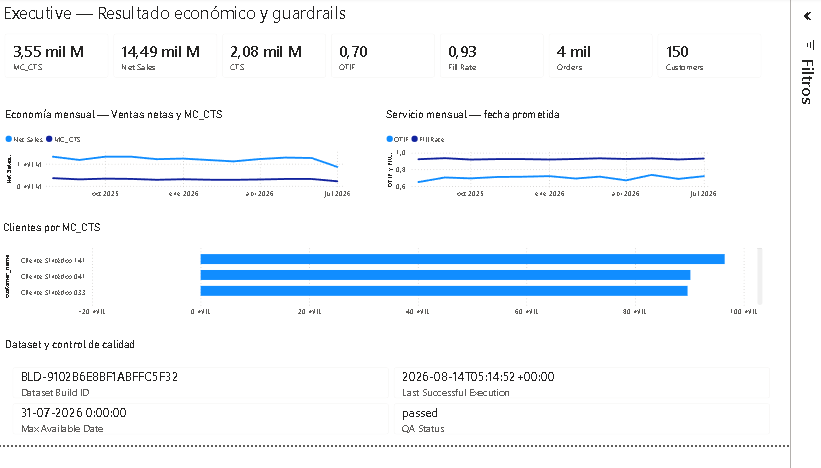

Layout of this report page (visuals, bound fields, positions):
{"tool":"powerbi","page":{"name":"Executive","canvas":[1280,720],"ordinal":0},"visuals":[{"type":"textbox","box":[9.5,0,660.7,57.1],"z":0},{"type":"cardVisual","fields":{"Data":["_Measures.MC_CTS","_Measures.Net Sales","_Measures.CTS","_Measures.OTIF","_Measures.Fill Rate","_Measures.Orders","_Measures.Customers"]},"box":[0,41.1,1251.9,105.8],"z":1000},{"type":"lineChart","title":"Economía mensual — Ventas netas y MC_CTS","fields":{"Category":["dim_date.month_start"],"Y":["_Measures.Net Sales","_Measures.MC_CTS"]},"box":[12.9,178.5,564.2,154.3],"z":2000},{"type":"lineChart","title":"Servicio mensual — fecha prometida","fields":{"Category":["dim_date.month_start"],"Y":["_Measures.OTIF","_Measures.Fill Rate"]},"box":[625.5,178.5,541,154.6],"z":3000},{"type":"clusteredBarChart","title":"Clientes por MC_CTS","fields":{"Category":["dim_customer.customer_name"],"Y":["_Measures.MC_CTS"]},"box":[9.6,360.2,1231,163],"z":4000},{"type":"cardVisual","title":"Dataset y control de calidad","fields":{"Data":["_Measures.Dataset Build ID","_Measures.Last Successful Execution","_Measures.Max Available Date","_Measures.QA Status"]},"box":[12.9,548.3,1252.7,172.1],"z":5000}]}

Visuals, with their boxes on the page's 1280x720 design canvas (x1, y1, x2, y2). These are canvas units, not pixel positions in the 821x468 screenshot, which may show the page scaled, cropped or inside an application window:
textbox: [left=10, top=0, right=670, bottom=57]
cardVisual - _Measures.MC_CTS x _Measures.Net Sales: [left=0, top=41, right=1252, bottom=147]
"Economía mensual — Ventas netas y MC_CTS" lineChart: [left=13, top=178, right=577, bottom=333]
"Servicio mensual — fecha prometida" lineChart: [left=626, top=178, right=1166, bottom=333]
"Clientes por MC_CTS" clusteredBarChart: [left=10, top=360, right=1241, bottom=523]
"Dataset y control de calidad" cardVisual: [left=13, top=548, right=1266, bottom=720]
